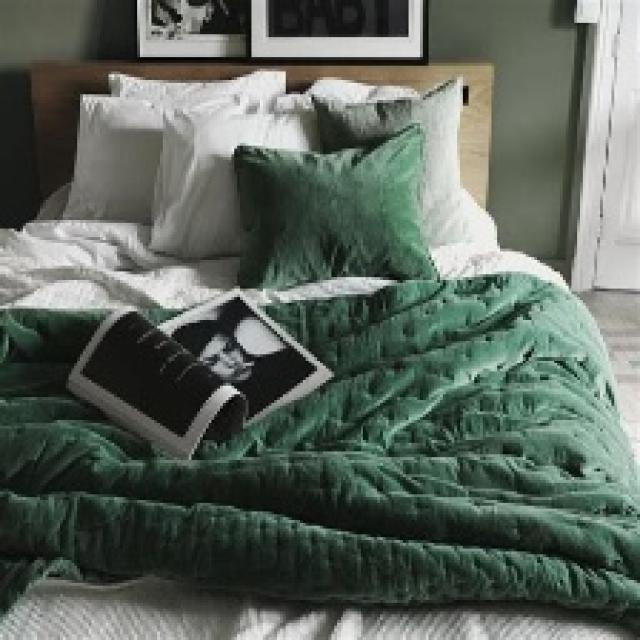Bed: (0, 57, 637, 637)
